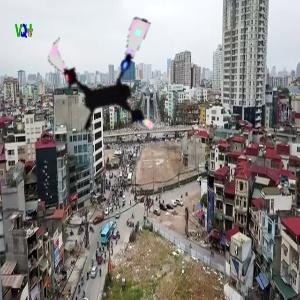drone: (42, 7, 182, 147)
